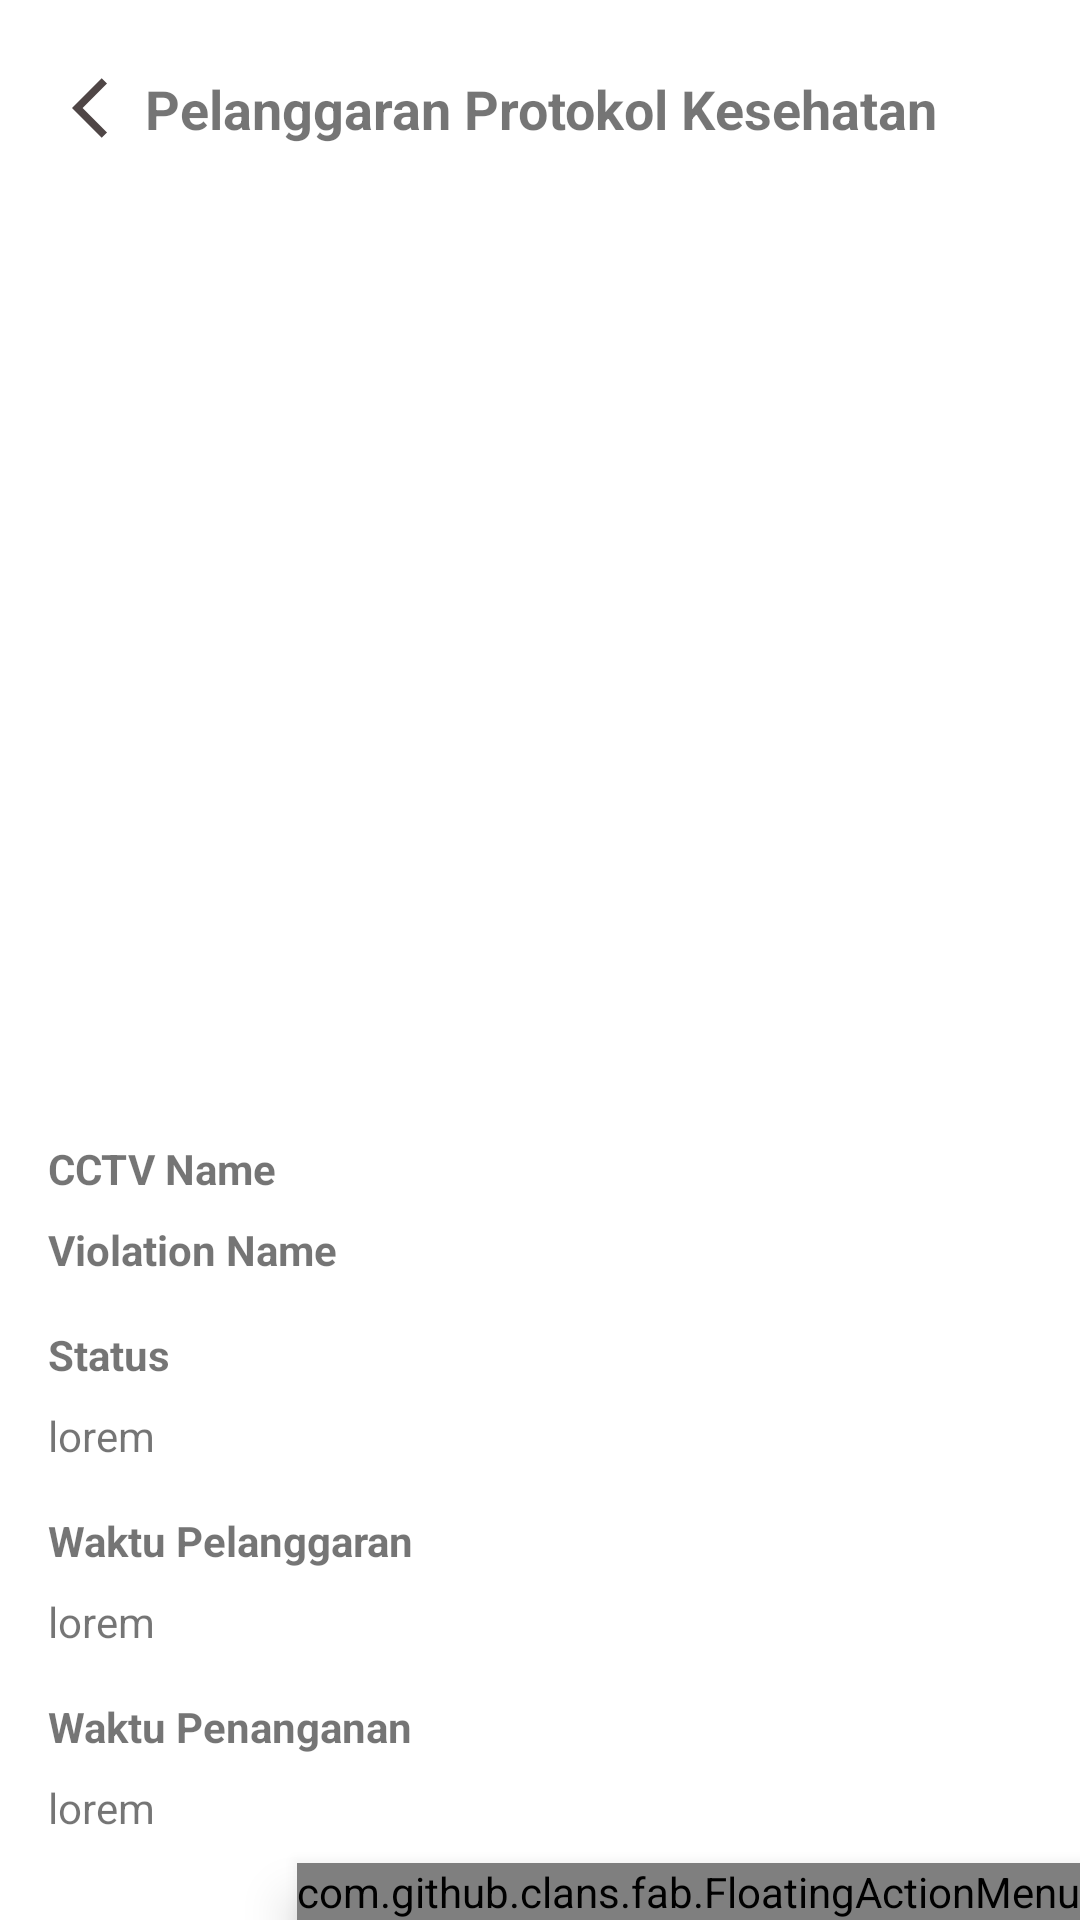

Where to tap for icons on this 1080px×1920px app screen, as (x,y):
arrow back: (89,108)
